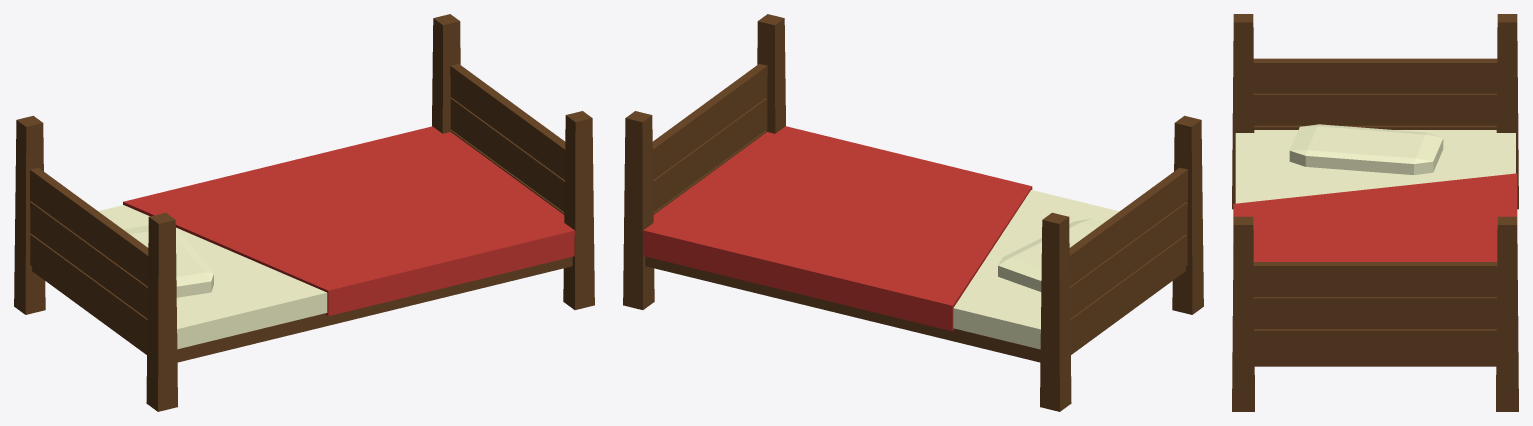
File: Bed.fbx
3 views of the same model, side by side, from view 1: azimuth 30°, elevation 25°; view 2: azimuth 150°, elevation 25°; view 3: azimuth 270°, elevation 25° (orthographic).
Parts seen in each view (by area): view 1: table_1.002; view 2: table_1.002; view 3: table_1.002.
Boxes of the visible parts, <box> form: table_1.002: <box>14,14,594,411</box>; table_1.002: <box>623,14,1203,411</box>; table_1.002: <box>1232,14,1518,411</box>.
Bounding box in the file's own units: 127 × 51.77 × 72.26.
